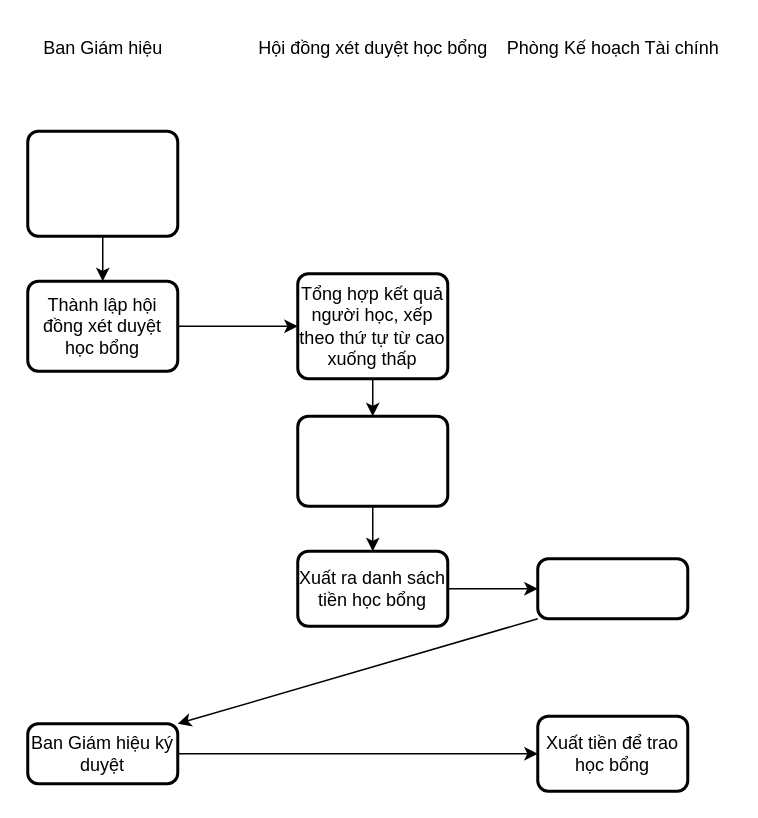
Some shapes in this 758 by 818 pixel diagram are drawn without their labels. Each missing label, with the centre of its shape:
Kế toán ký duyệt: (x=612, y=588)
Quyết định lượng tiền tương ứng cho từng cá nhân: (x=372, y=460)
Xác định Ngân sách học bổng theo tỷ lệ phần trăm các quỹ: (x=102, y=183)
